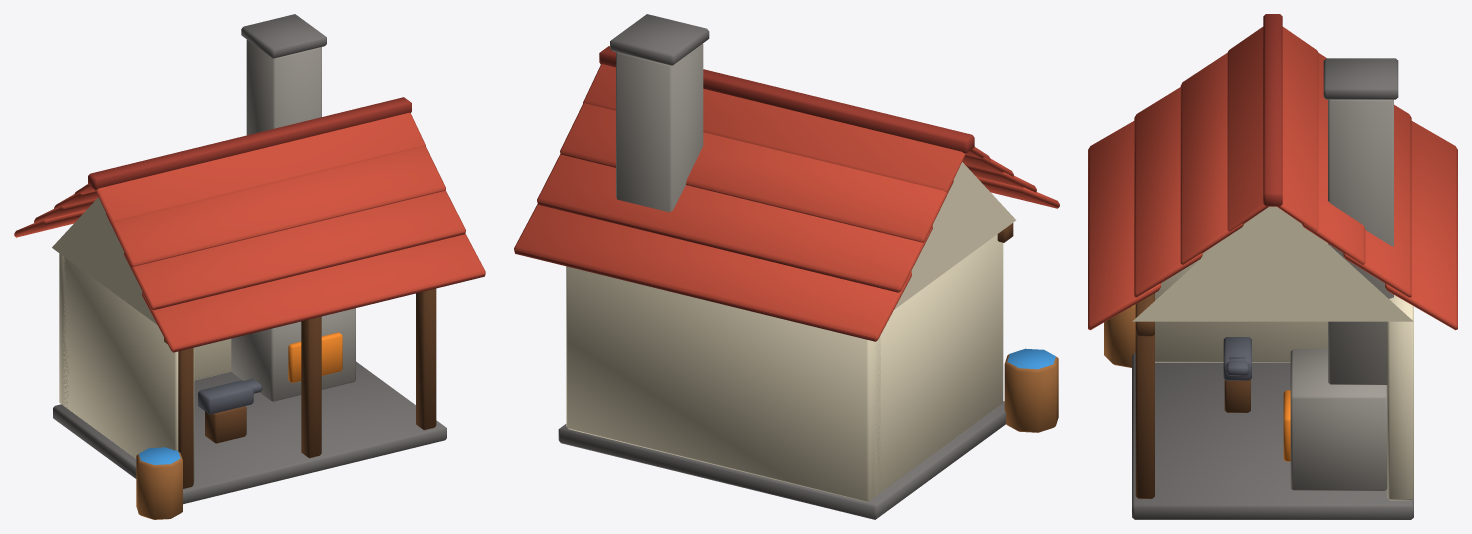
The model's file is B_MedBlacksmith.fbx.
3 renders of one model, left to right at view 1: azimuth 30°, elevation 25°; view 2: azimuth 150°, elevation 25°; view 3: azimuth 270°, elevation 25°, orthographic. The views are drawn at different scales.
Parts seen in each view (by area): view 1: M_Blacksmith; view 2: M_Blacksmith; view 3: M_Blacksmith.
Boxes of the visible parts, <box> form: M_Blacksmith: <box>14,14,485,519</box>; M_Blacksmith: <box>514,14,1059,519</box>; M_Blacksmith: <box>1088,14,1457,519</box>.
Size of the model in its own units: 5.04 by 5.15 by 4.2.
Materials: 1 (1 with a texture image).
